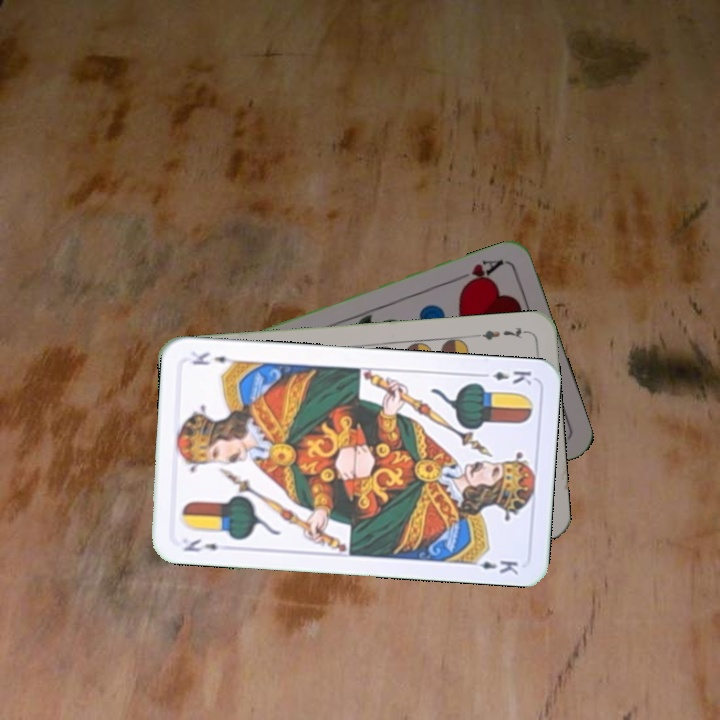E7: (471, 323, 531, 343)
EK: (475, 366, 535, 387), (179, 535, 221, 555)
HA: (451, 255, 506, 291)
